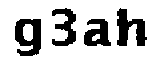3: (50, 5, 79, 50)
a: (83, 17, 112, 52)
g: (4, 8, 47, 60)
h: (115, 2, 150, 53)
